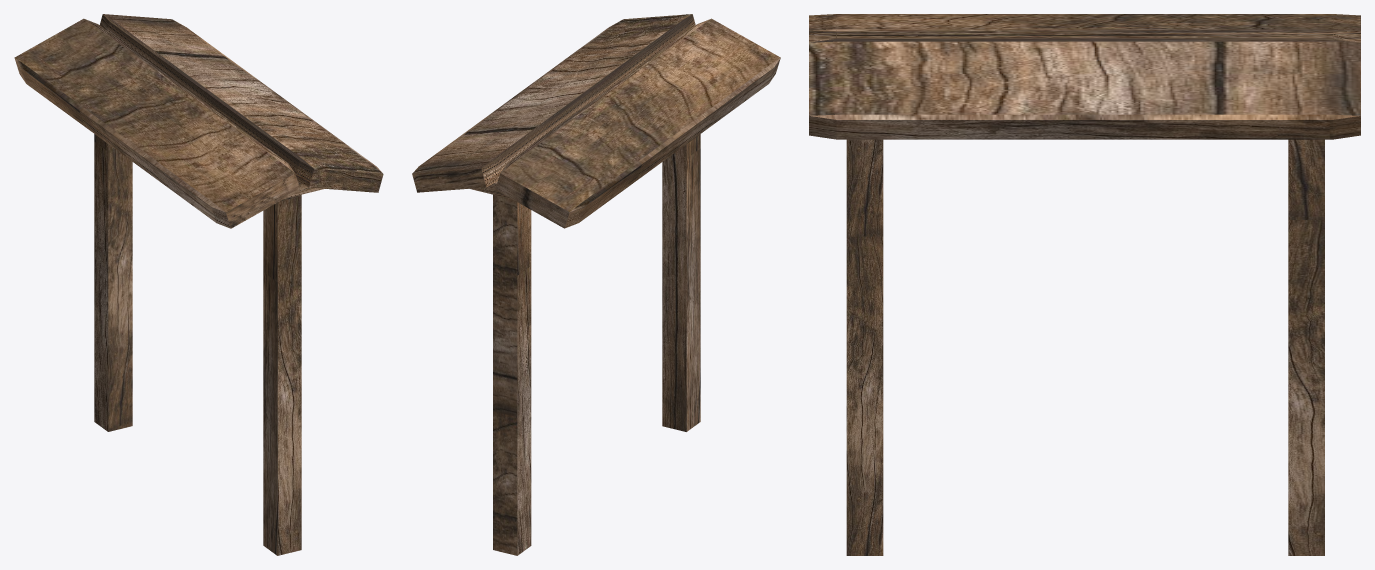
Rendered from mineshaft_structure1.obj.
3 views of the same model, side by side, from view 1: azimuth 30°, elevation 25°; view 2: azimuth 150°, elevation 25°; view 3: azimuth 270°, elevation 25° (orthographic). The views are drawn at different scales.
Visible parts, largest first — view 1: Cube.003, Cube, Cube.002, Cube.001; view 2: Cube.003, Cube, Cube.001, Cube.002; view 3: Cube, Cube.002, Cube.001, Cube.003.
Part boxes in pixels (left/top/right/bottom): Cube.003: left=14, top=18, right=300, bottom=228; Cube: left=100, top=14, right=383, bottom=192; Cube.002: left=263, top=194, right=301, bottom=555; Cube.001: left=94, top=134, right=132, bottom=431; Cube.003: left=495, top=18, right=780, bottom=228; Cube: left=412, top=14, right=695, bottom=192; Cube.001: left=493, top=194, right=531, bottom=555; Cube.002: left=662, top=134, right=700, bottom=431; Cube: left=809, top=38, right=1360, bottom=139; Cube.002: left=846, top=139, right=883, bottom=555; Cube.001: left=1288, top=139, right=1324, bottom=555; Cube.003: left=809, top=14, right=1360, bottom=42.
Bounding box in the file's own units: 4.1 × 9.33 × 9.09.
Materials: 1 (1 with a texture image).
